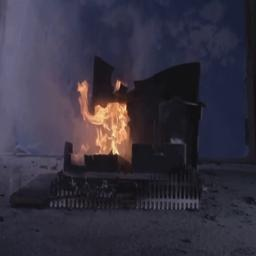fire: (70, 74, 145, 162)
